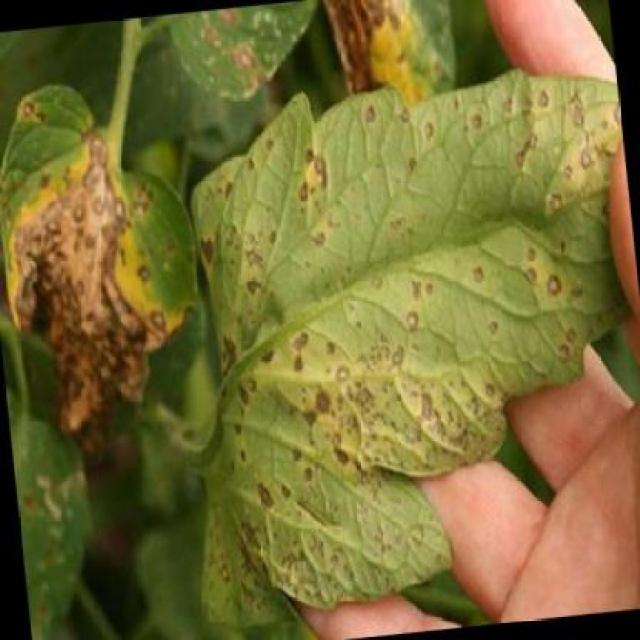Septoria leaf spot: (150, 60, 640, 640), (1, 72, 192, 425)
